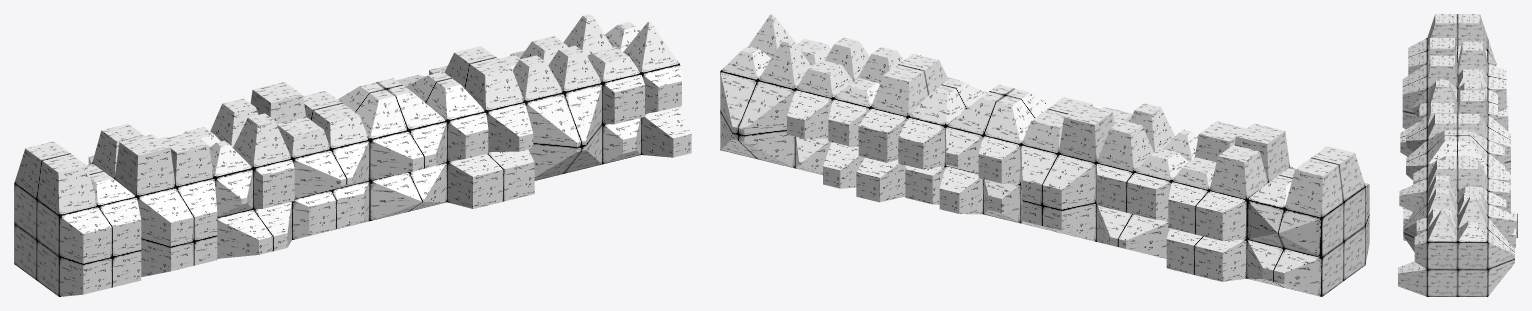
The model's file is wall-halfheight.fbx.
The picture shows the model from 3 angles, left to right: view 1: azimuth 30°, elevation 25°; view 2: azimuth 150°, elevation 25°; view 3: azimuth 270°, elevation 25°; orthographic projection. The views are drawn at different scales.
Parts seen in each view (by area): view 1: wall-halfheight; view 2: wall-halfheight; view 3: wall-halfheight.
Part boxes in pixels (x1,y1,x2,y2): wall-halfheight: (14, 14, 691, 296); wall-halfheight: (720, 14, 1369, 296); wall-halfheight: (1398, 14, 1517, 296).
Bounding box in the file's own units: 1600 × 296 × 396.
